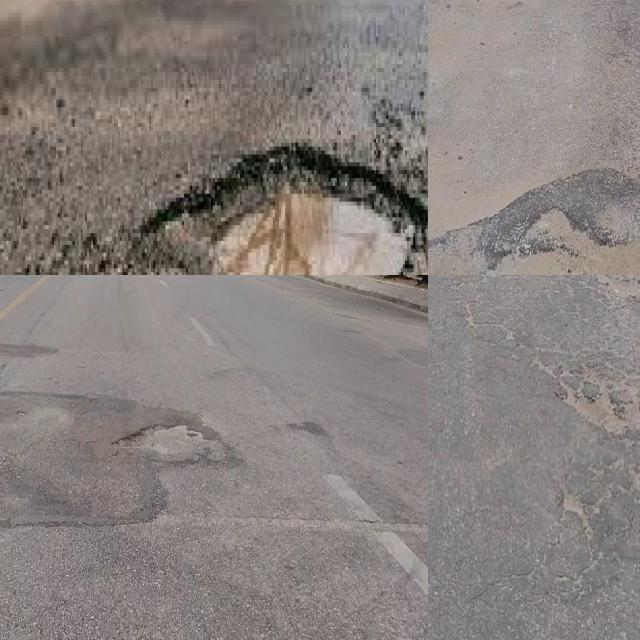Pothole: (168, 147, 424, 275), (493, 201, 640, 275), (558, 383, 640, 444), (116, 419, 205, 457), (607, 275, 640, 304)
